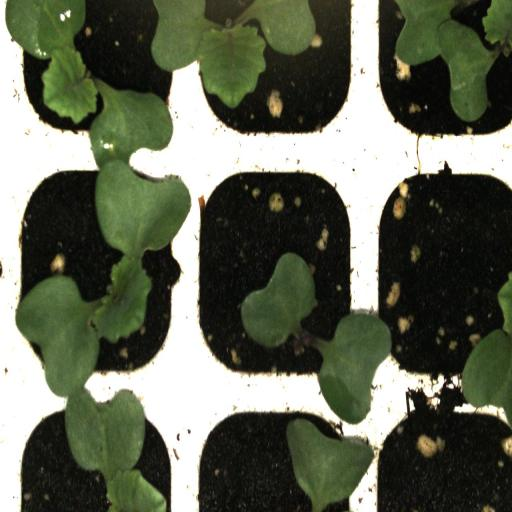seedling: (184, 154, 368, 396), (7, 157, 187, 392), (4, 1, 184, 159), (182, 0, 366, 153)
twoseedling: (365, 1, 512, 157)
